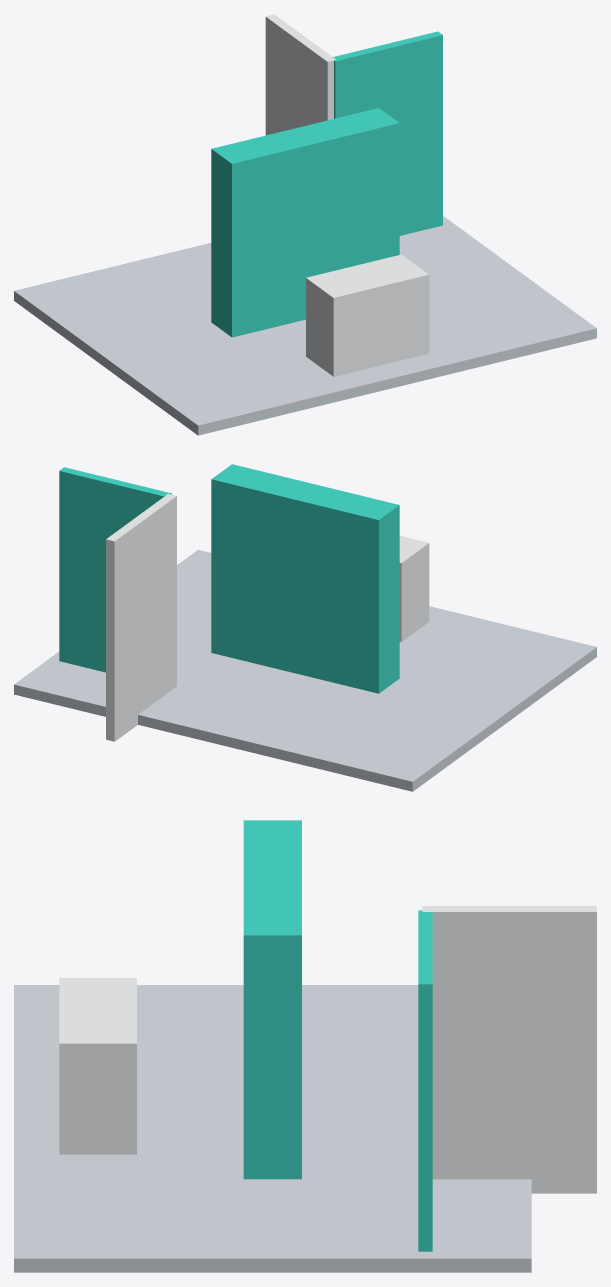
3 renders of one model, top to bottom at view 1: azimuth 30°, elevation 25°; view 2: azimuth 150°, elevation 25°; view 3: azimuth 270°, elevation 25°, orthographic. The views are drawn at different scales.
Parts seen in each view (by area): view 1: Exhibition Booth Concept; view 2: Exhibition Booth Concept; view 3: Exhibition Booth Concept.
Boxes of the visible parts, left/top/right/bottom form: Exhibition Booth Concept: left=14, top=14, right=596, bottom=435; Exhibition Booth Concept: left=14, top=464, right=596, bottom=791; Exhibition Booth Concept: left=14, top=820, right=596, bottom=1272.
Size of the model in its own units: 5 by 2.4 by 4.51.
